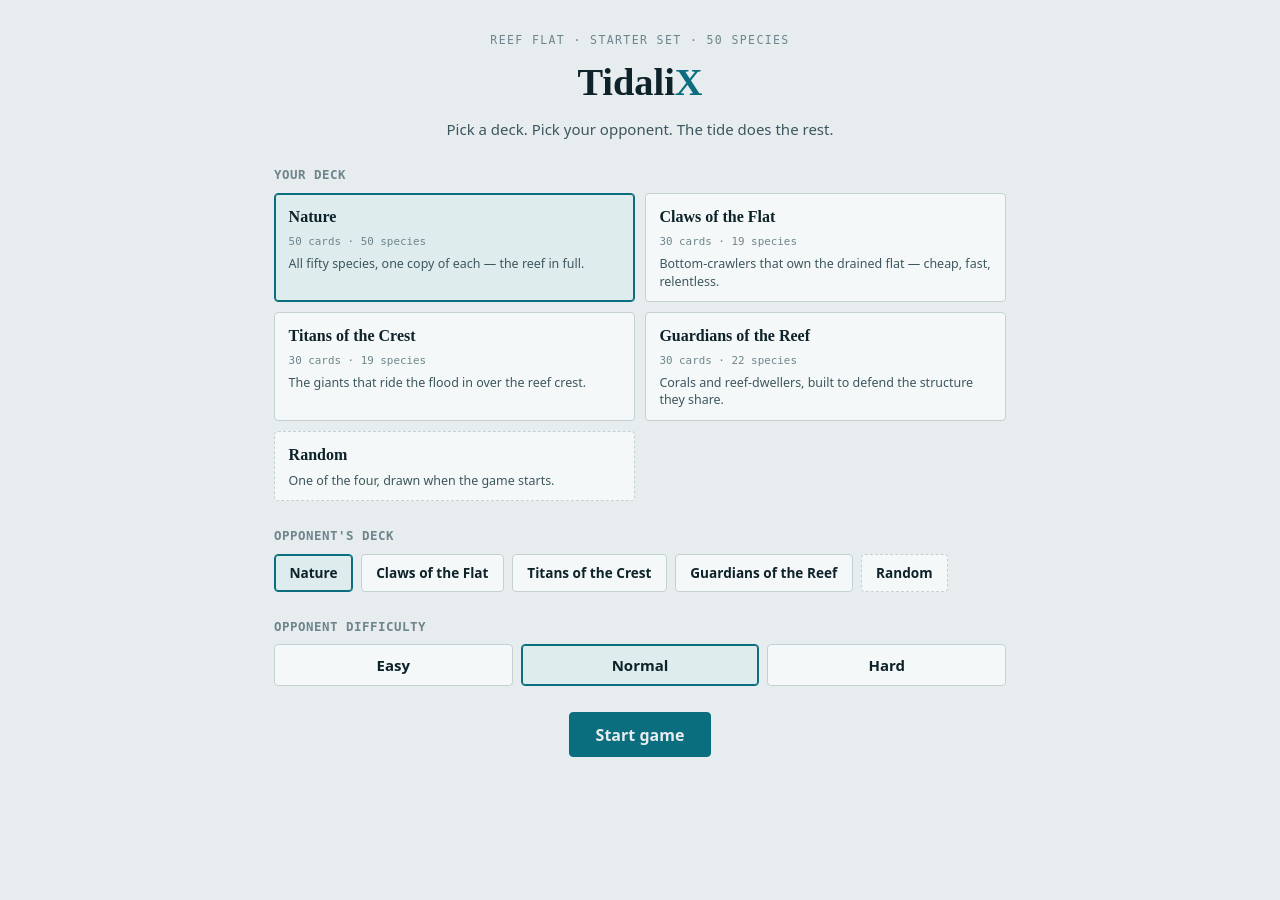
Test case: client › renders real species with binomial names and stat breakdowns
(page scrolled)
Click the button with class "setup__start". click: (640, 735)
box: [569,712,711,757]
(page scrolled)
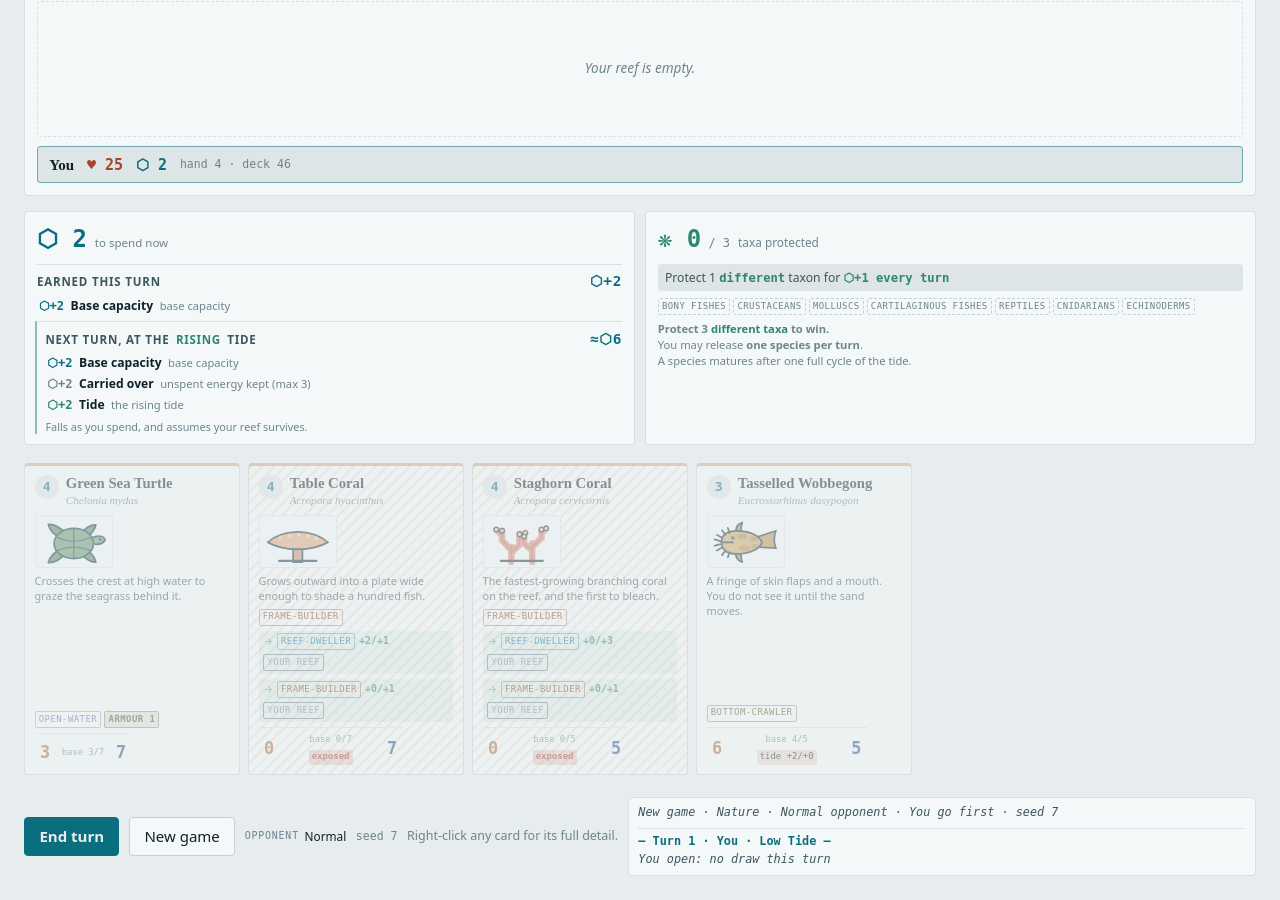
Result: the text with class "card__species" reads "Chelonia mydas" at [66,494,138,506]
Result: the text with class "card__species" reads "Acropora hyacinthus" at [290,494,384,506]
Result: the text with class "card__species" reads "Acropora cervicornis" at [514,494,609,506]
